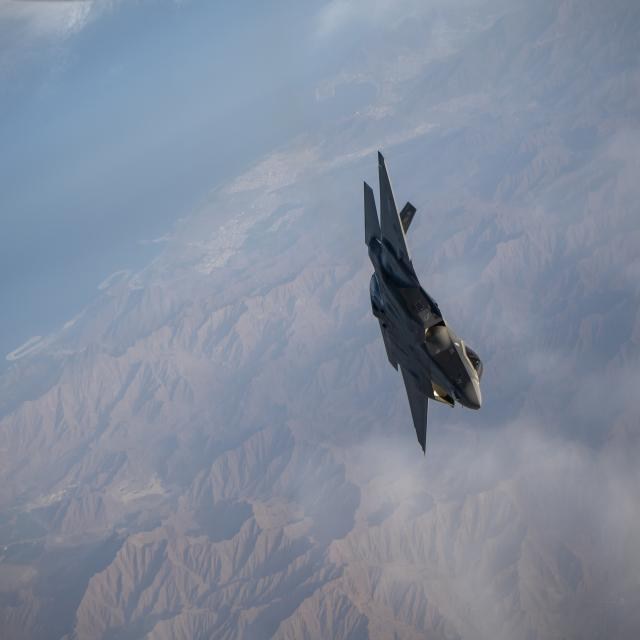MIL_Plane: (363, 150, 483, 458)
